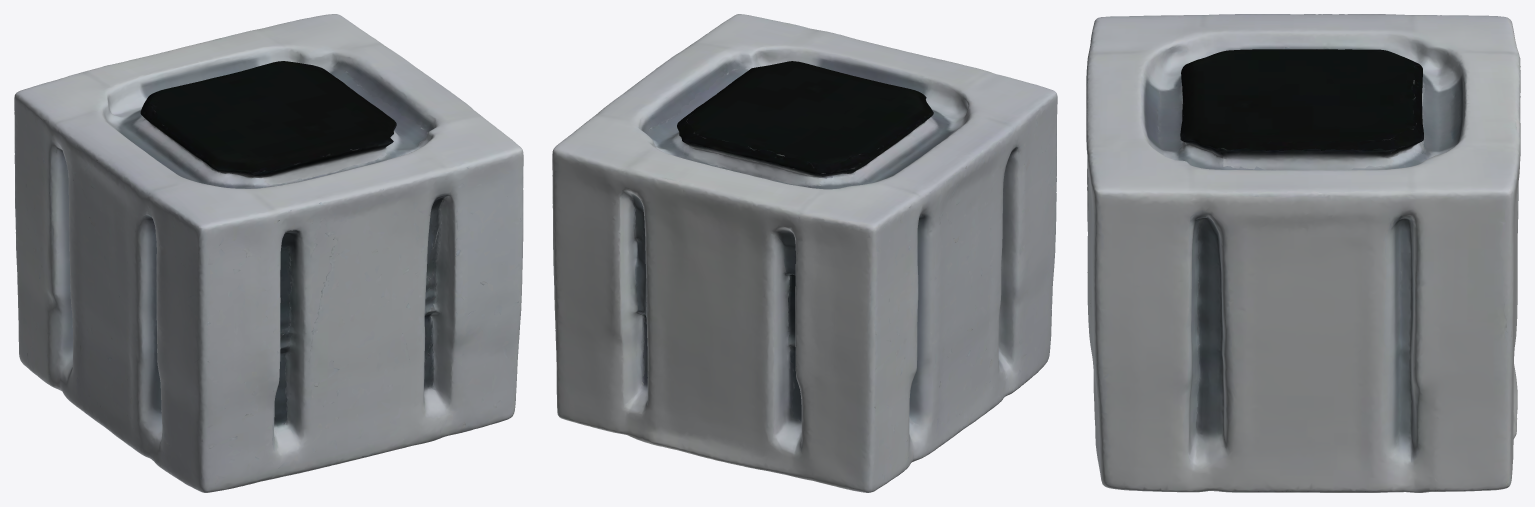
The model's file is lander_top.glb.
3 views of the same model, side by side, from view 1: azimuth 30°, elevation 25°; view 2: azimuth 150°, elevation 25°; view 3: azimuth 270°, elevation 25° (orthographic). The views are drawn at different scales.
Visible parts, largest first — view 1: geometry_0; view 2: geometry_0; view 3: geometry_0.
Boxes of the visible parts, x1=… form: geometry_0: x1=14, y1=14, x2=523, y2=492; geometry_0: x1=552, y1=14, x2=1057, y2=492; geometry_0: x1=1086, y1=14, x2=1520, y2=492.
Bounding box in the file's own units: 0.9906 × 0.7955 × 0.9995.
1 material, 1 textured.
